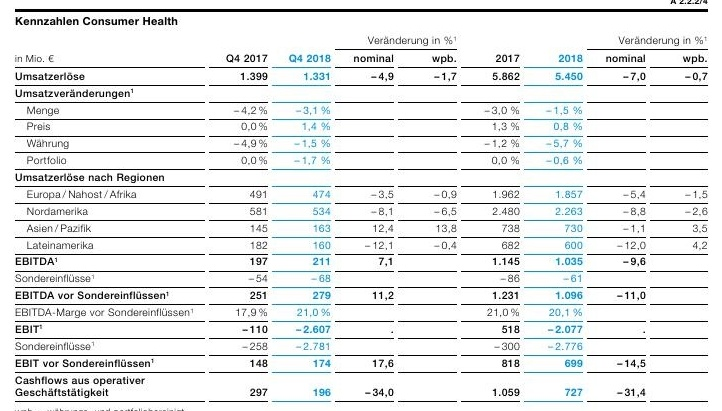table: (0, 0, 722, 411)
